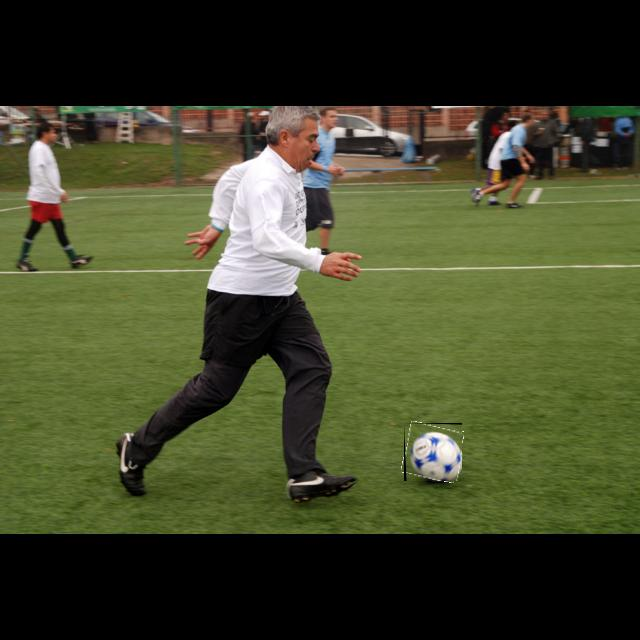Football: (404, 423, 462, 481)
